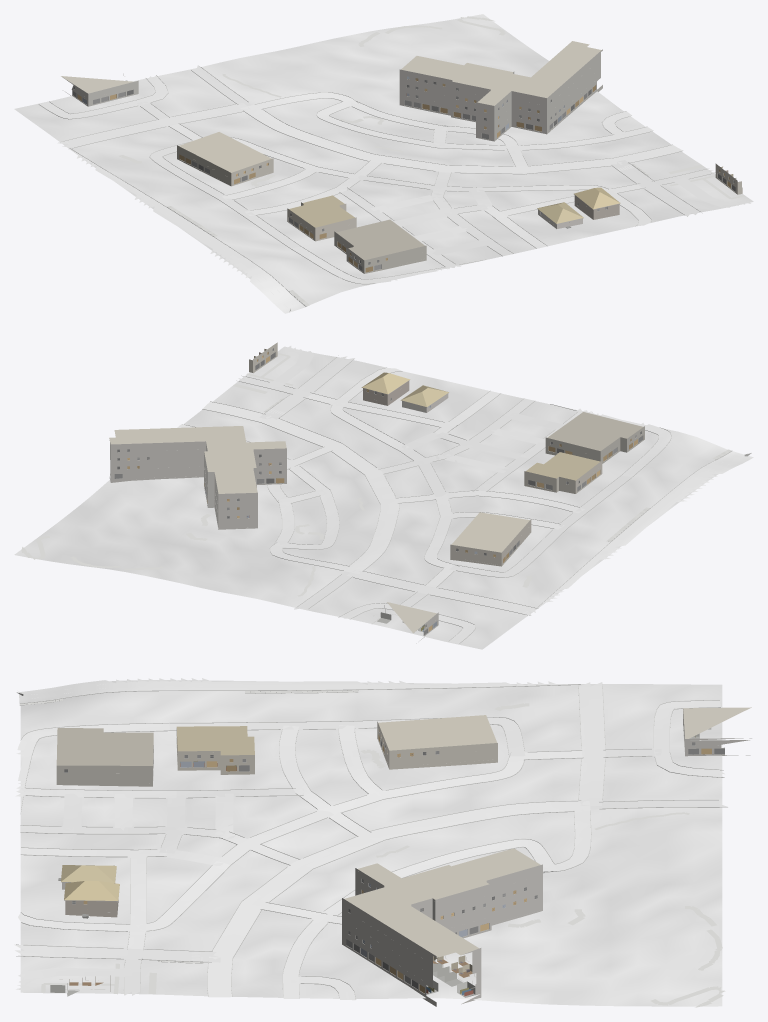
3 renders of one model, top to bottom at view 1: azimuth 30°, elevation 25°; view 2: azimuth 150°, elevation 25°; view 3: azimuth 270°, elevation 25°, orthographic. The views are drawn at different scales.
Parts seen in each view (by area): view 1: ground, concrete, wall_com, roof_flat, curb, asphalt, walk, roof, glass, glass_lit, detail, wall; view 2: ground, concrete, roof_flat, wall_com, curb, asphalt, walk, roof, glass, detail, glass_lit, wall; view 3: ground, concrete, roof_flat, wall_com, curb, asphalt, walk, roof, room, glass_lit, glass, wall (+1 smaller).
Boxes of the visible parts, x1=… form: ground: x1=14, y1=14, x2=753, y2=304; concrete: x1=39, y1=65, x2=750, y2=283; wall_com: x1=64, y1=49, x2=742, y2=273; roof_flat: x1=61, y1=41, x2=601, y2=260; curb: x1=38, y1=67, x2=714, y2=306; asphalt: x1=77, y1=154, x2=305, y2=313; walk: x1=119, y1=16, x2=744, y2=306; roof: x1=537, y1=187, x2=620, y2=223; glass: x1=72, y1=80, x2=735, y2=270; glass_lit: x1=77, y1=76, x2=730, y2=272; detail: x1=72, y1=68, x2=734, y2=272; wall: x1=574, y1=195, x2=619, y2=219; ground: x1=14, y1=346, x2=727, y2=649; concrete: x1=177, y1=346, x2=671, y2=643; roof_flat: x1=109, y1=412, x2=642, y2=633; wall_com: x1=109, y1=342, x2=644, y2=643; curb: x1=182, y1=355, x2=732, y2=643; asphalt: x1=543, y1=451, x2=753, y2=602; walk: x1=21, y1=353, x2=731, y2=596; roof: x1=362, y1=372, x2=448, y2=406; glass: x1=114, y1=348, x2=642, y2=635; detail: x1=114, y1=350, x2=643, y2=635; glass_lit: x1=127, y1=352, x2=637, y2=631; wall: x1=363, y1=381, x2=409, y2=405; ground: x1=20, y1=680, x2=722, y2=1006; concrete: x1=14, y1=682, x2=728, y2=1000; roof_flat: x1=56, y1=707, x2=751, y2=957; wall_com: x1=56, y1=709, x2=751, y2=1006; curb: x1=16, y1=684, x2=727, y2=999; asphalt: x1=18, y1=678, x2=557, y2=703; walk: x1=19, y1=690, x2=725, y2=1007; roof: x1=61, y1=865, x2=119, y2=900; room: x1=50, y1=728, x2=711, y2=997; glass_lit: x1=83, y1=729, x2=711, y2=993; glass: x1=64, y1=724, x2=724, y2=988; wall: x1=65, y1=900, x2=118, y2=917.
Size of the model in its own units: 258 by 22.19 by 264.
